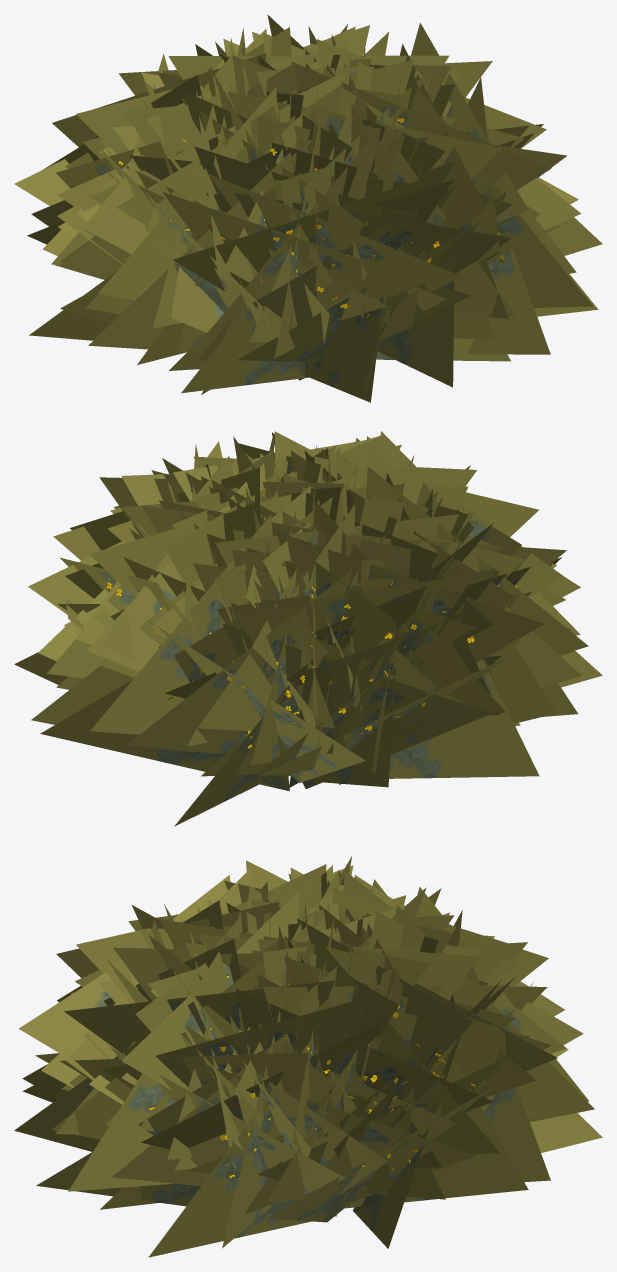
The model's file is Spartium_Junceum_Autumn_Adult.glb.
The picture shows the model from 3 angles, top to bottom: view 1: azimuth 30°, elevation 25°; view 2: azimuth 150°, elevation 25°; view 3: azimuth 270°, elevation 25°; orthographic projection.
Visible parts, largest first — view 1: Spartium_Junceum_Autumn_Adult__LOD3; view 2: Spartium_Junceum_Autumn_Adult__LOD3; view 3: Spartium_Junceum_Autumn_Adult__LOD3.
Boxes of the visible parts, left/top/right/bottom form: Spartium_Junceum_Autumn_Adult__LOD3: left=14, top=14, right=602, bottom=402; Spartium_Junceum_Autumn_Adult__LOD3: left=14, top=431, right=602, bottom=826; Spartium_Junceum_Autumn_Adult__LOD3: left=14, top=856, right=602, bottom=1257.
Size of the model in its own units: 6.27 by 3.53 by 6.17.
2 materials, 2 textured.
